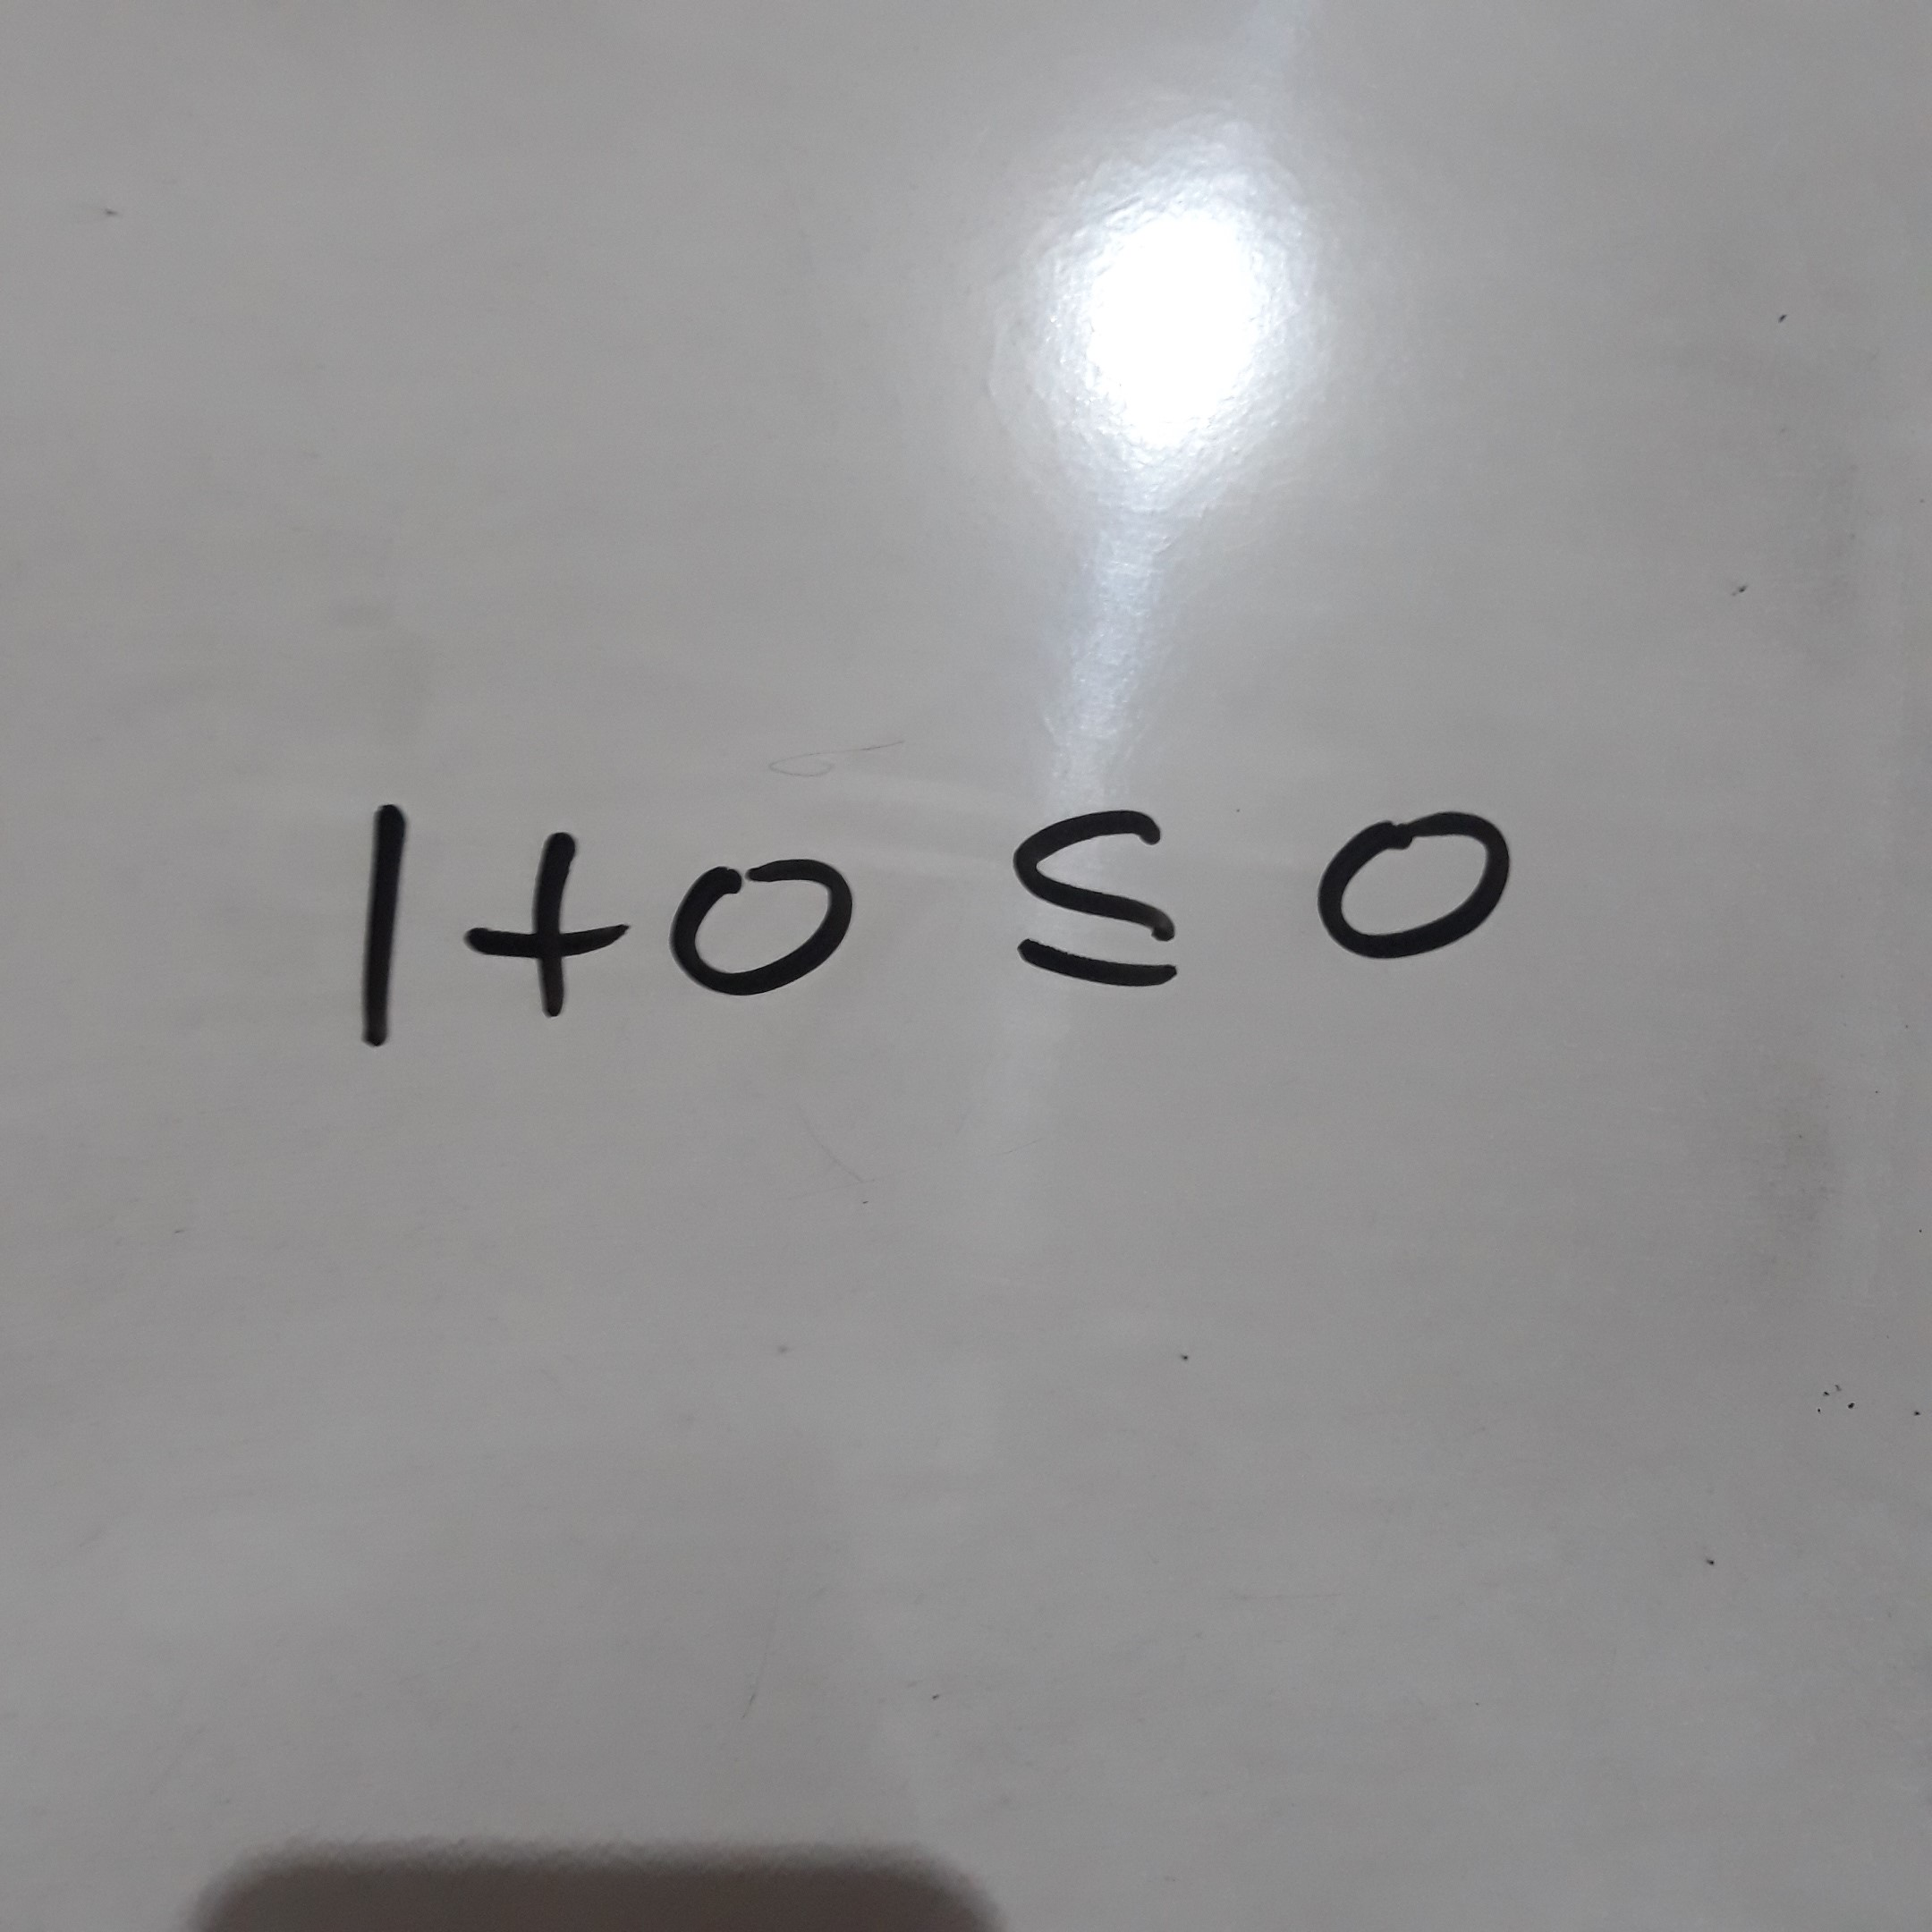lessthan-equal: (997, 771, 1209, 1009)
num0: (1309, 753, 1521, 991), (664, 818, 861, 1013)
num1: (321, 784, 429, 1064)
sum: (455, 826, 641, 1024)
